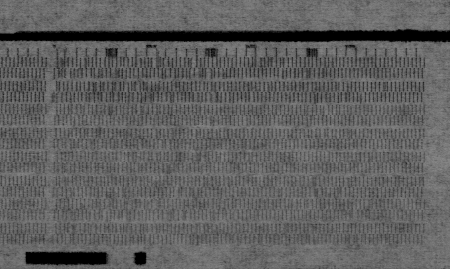Oblique printing: (52, 54, 274, 116), (99, 181, 210, 222), (307, 170, 325, 197), (334, 81, 349, 104), (301, 67, 315, 81), (311, 92, 326, 105), (356, 92, 369, 106), (377, 82, 392, 94)
